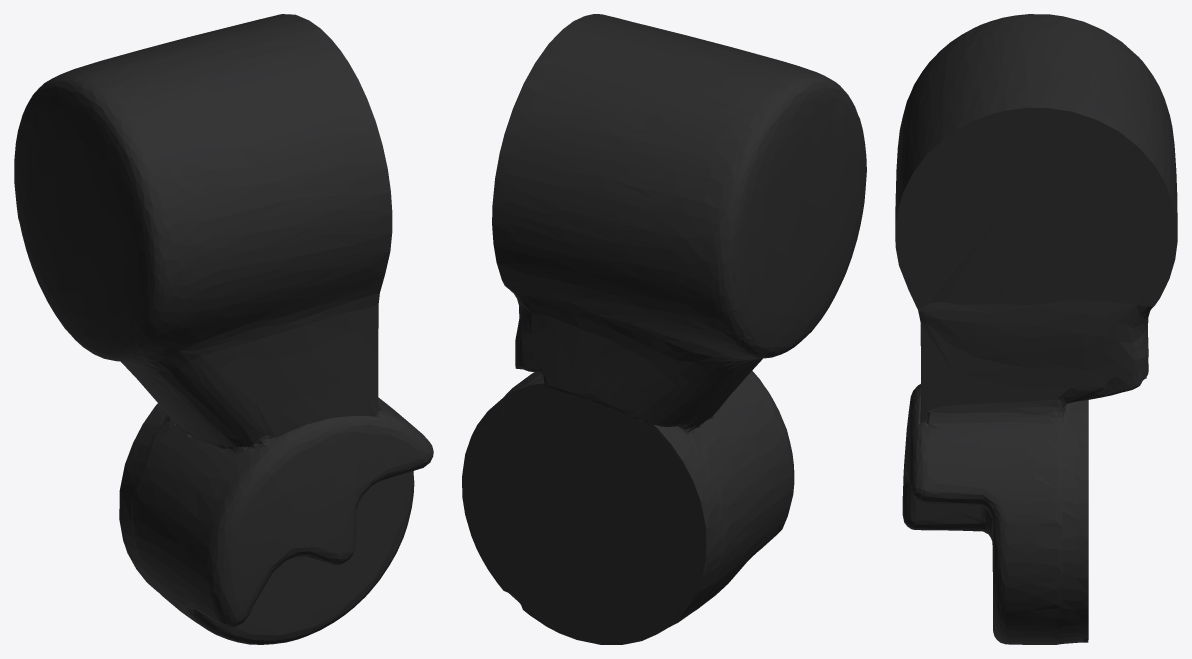
File: arm_1.dae
3 renders of one model, left to right at view 1: azimuth 30°, elevation 25°; view 2: azimuth 150°, elevation 25°; view 3: azimuth 270°, elevation 25°, orthographic. The views are drawn at different scales.
Parts seen in each view (by area): view 1: node; view 2: node; view 3: node.
Part boxes in pixels (<box>): node: <box>14,14,433,644</box>; node: <box>462,14,866,644</box>; node: <box>895,14,1177,644</box>.
Size of the model in its own units: 0.1417 by 0.2514 by 0.1182.
1 material, 1 textured.
